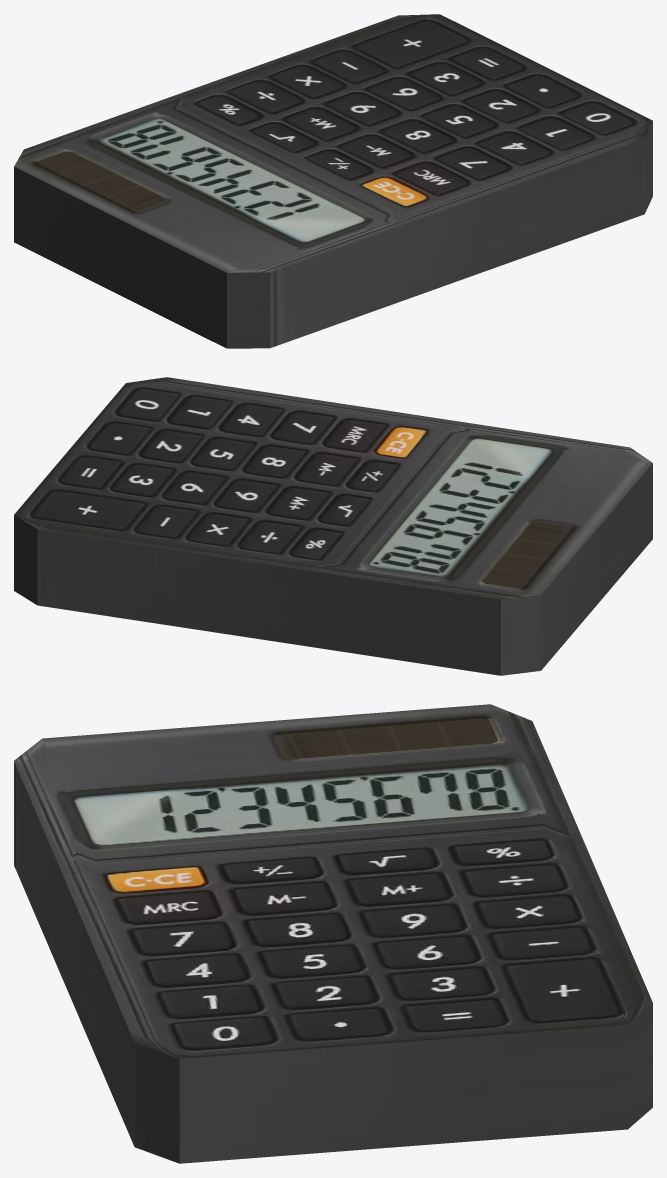
Rendered from Calculator_Clean.fbx.
3 renders of one model, top to bottom at view 1: azimuth 30°, elevation 25°; view 2: azimuth 150°, elevation 25°; view 3: azimuth 270°, elevation 25°, orthographic. The views are drawn at different scales.
Visible parts, largest first — view 1: CalculatorClean; view 2: CalculatorClean; view 3: CalculatorClean.
Boxes of the visible parts, x1,y1,x2,y2 form: CalculatorClean: [14, 14, 652, 348]; CalculatorClean: [14, 377, 652, 675]; CalculatorClean: [14, 704, 652, 1163].
Size of the model in its own units: 22.03 by 3.03 by 16.77.
